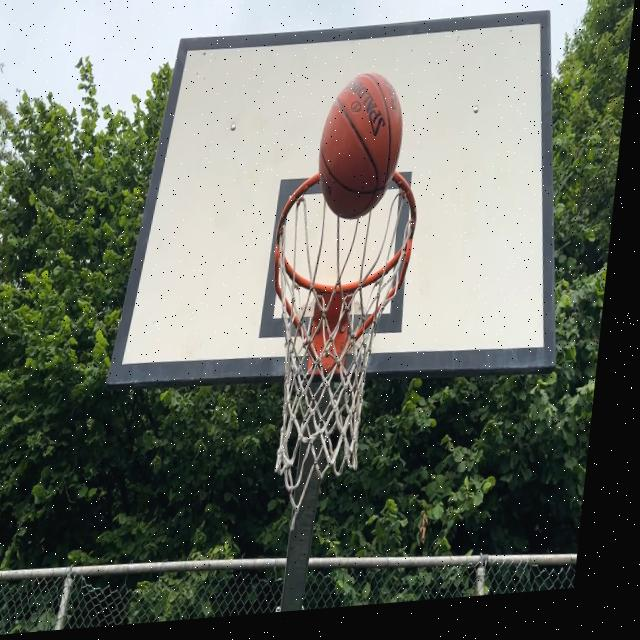rebound_hit: (312, 66, 412, 224)
